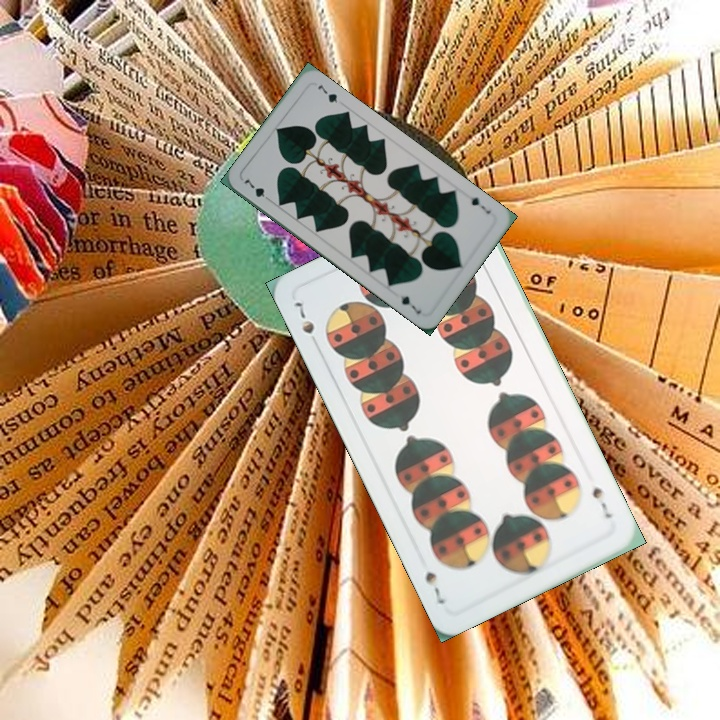G7: (240, 174, 274, 205), (467, 193, 493, 217)
S7: (290, 297, 322, 351), (588, 483, 615, 521)
